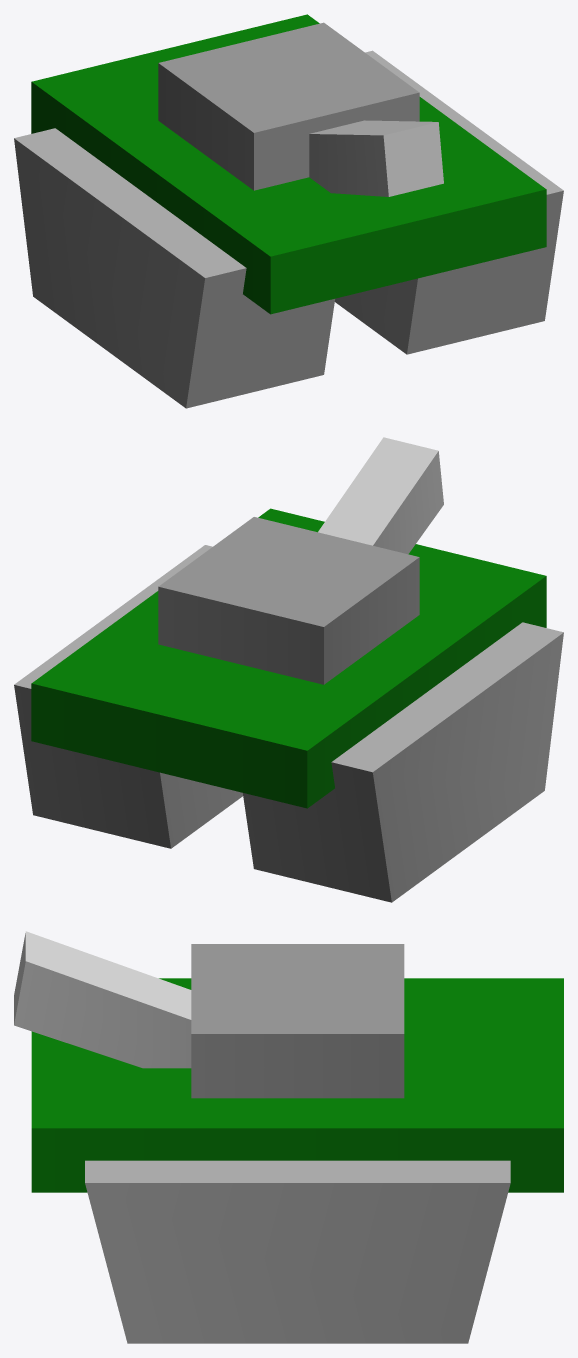
Rendered from tank.glb.
3 views of the same model, one above another, from view 1: azimuth 30°, elevation 25°; view 2: azimuth 150°, elevation 25°; view 3: azimuth 270°, elevation 25° (orthographic). The views are drawn at different scales.
Parts seen in each view (by area): view 1: mesh0; view 2: mesh0; view 3: mesh0.
Boxes of the visible parts, box(x1,y1,x2,y2) form: mesh0: box(14, 14, 563, 408); mesh0: box(14, 437, 563, 902); mesh0: box(14, 931, 563, 1343).
Size of the model in its own units: 0.39 by 0.28 by 0.465.
